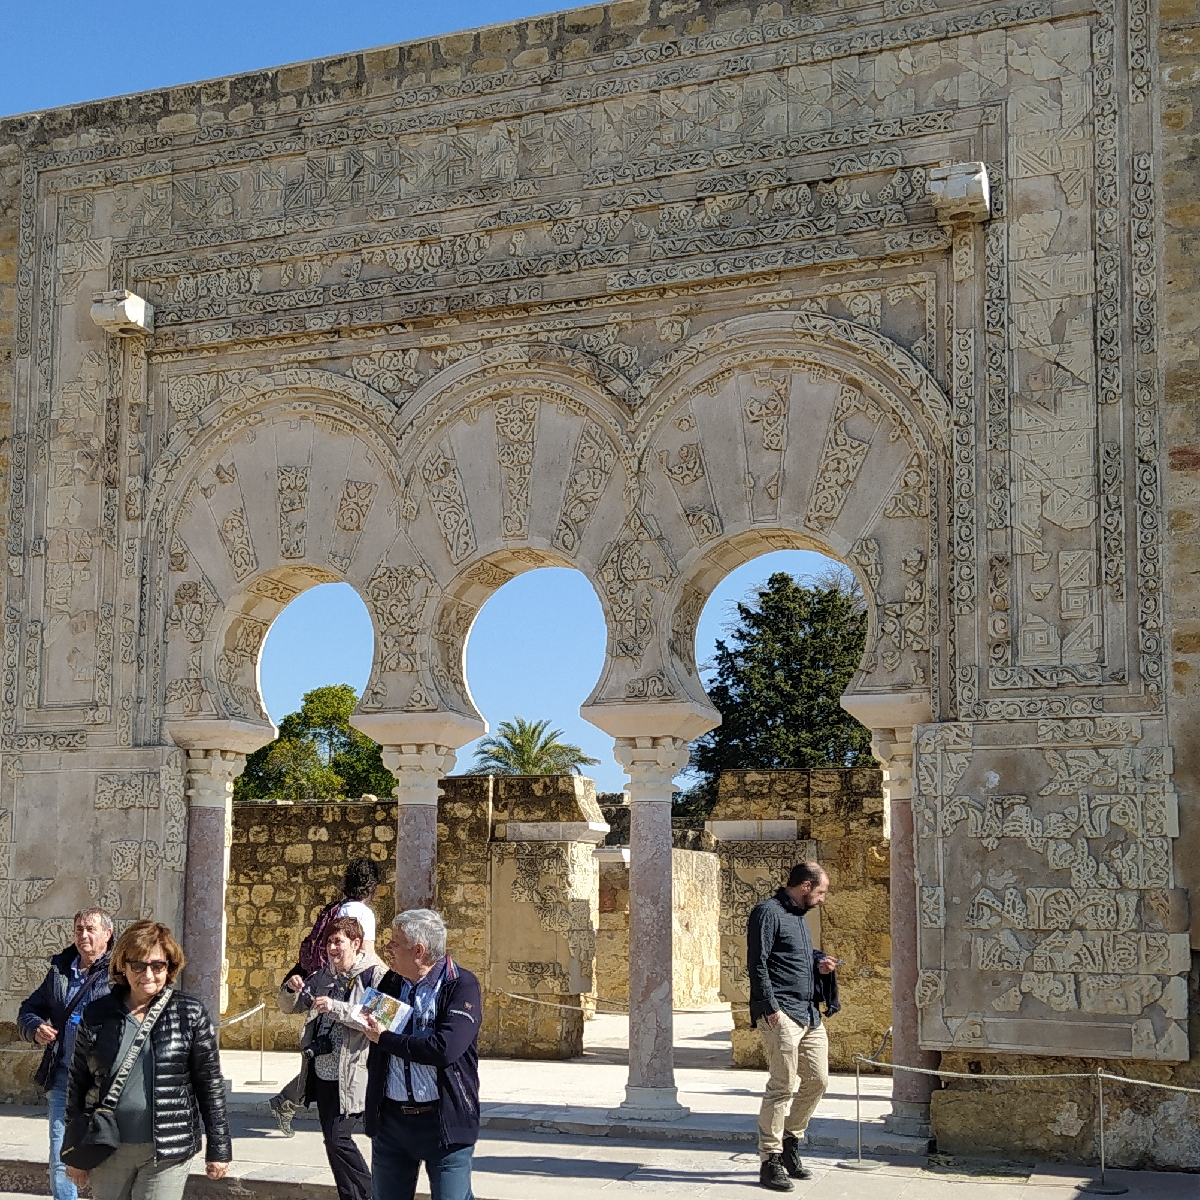arco-herradura: (640, 505, 893, 767), (399, 520, 642, 785), (190, 552, 405, 787)
